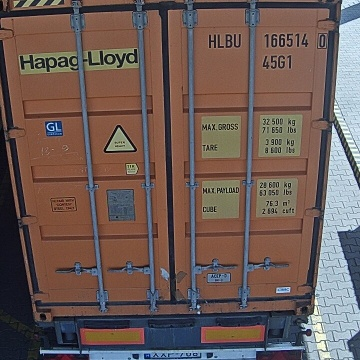serial_id: (209, 33, 327, 48)
